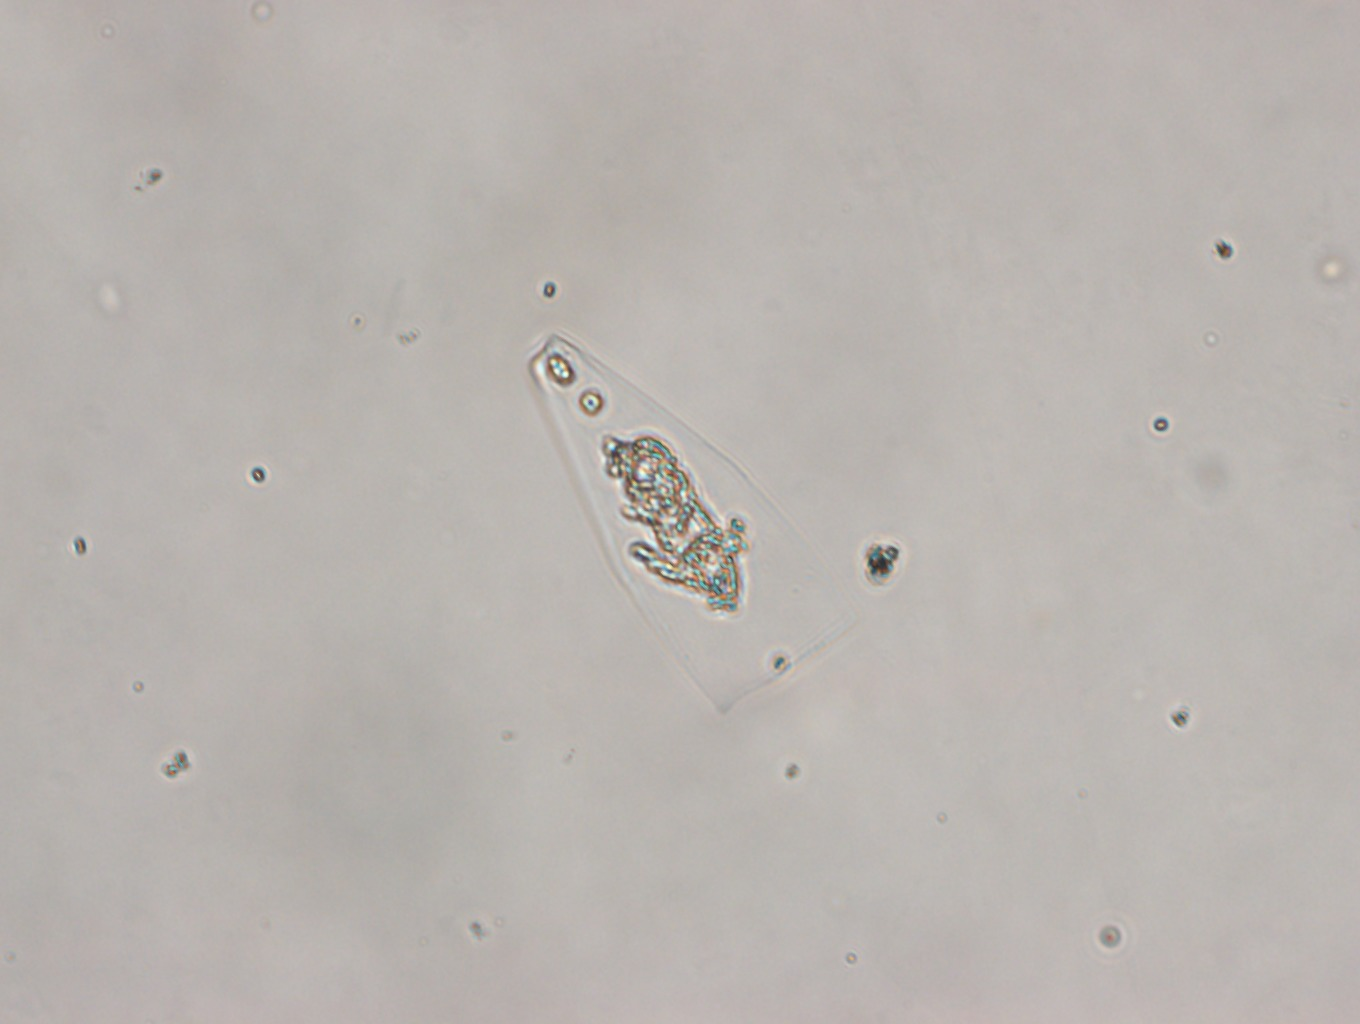helicotheca: (525, 330, 865, 717)
